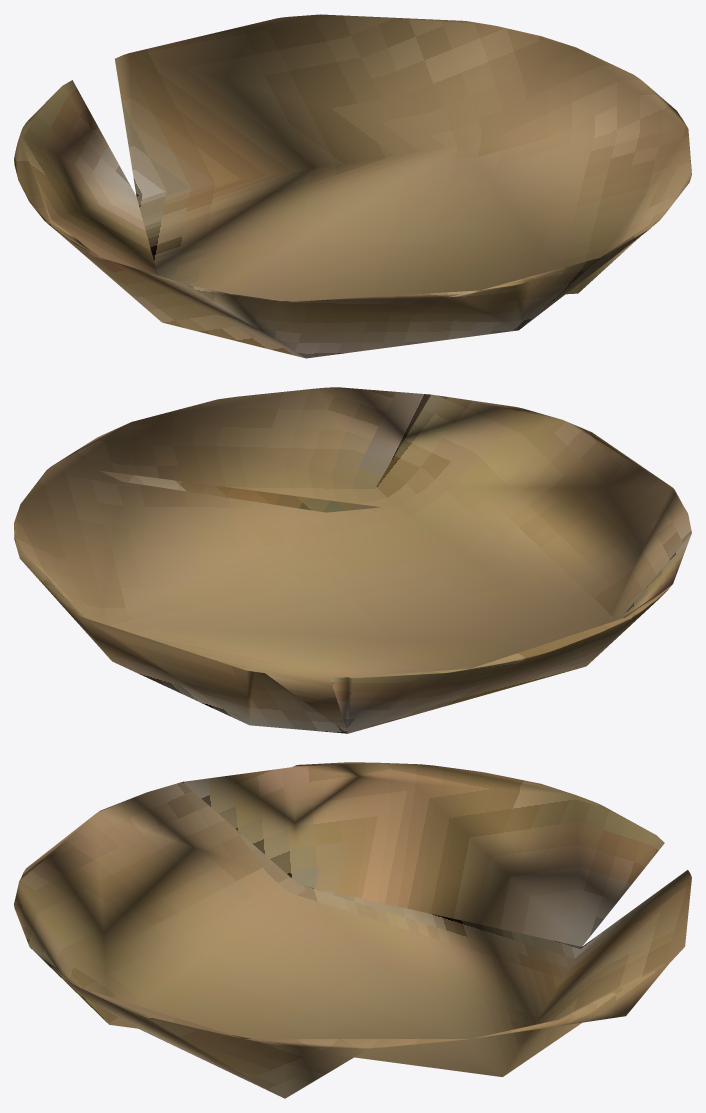
File: Ecoforms_Plant_Saucer_S14NATURAL-low.glb
The picture shows the model from 3 angles, top to bottom: view 1: azimuth 30°, elevation 25°; view 2: azimuth 150°, elevation 25°; view 3: azimuth 270°, elevation 25°; orthographic projection.
Parts seen in each view (by area): view 1: Ecoforms_Plant_Saucer_S14NATURAL; view 2: Ecoforms_Plant_Saucer_S14NATURAL; view 3: Ecoforms_Plant_Saucer_S14NATURAL.
Part boxes in pixels (x1,y1,x2,y2): Ecoforms_Plant_Saucer_S14NATURAL: (14,14,691,358); Ecoforms_Plant_Saucer_S14NATURAL: (14,387,691,733); Ecoforms_Plant_Saucer_S14NATURAL: (14,762,691,1098).
Bounding box in the file's own units: 0.1475 × 0.0257 × 0.1458.
1 material, 1 textured.
